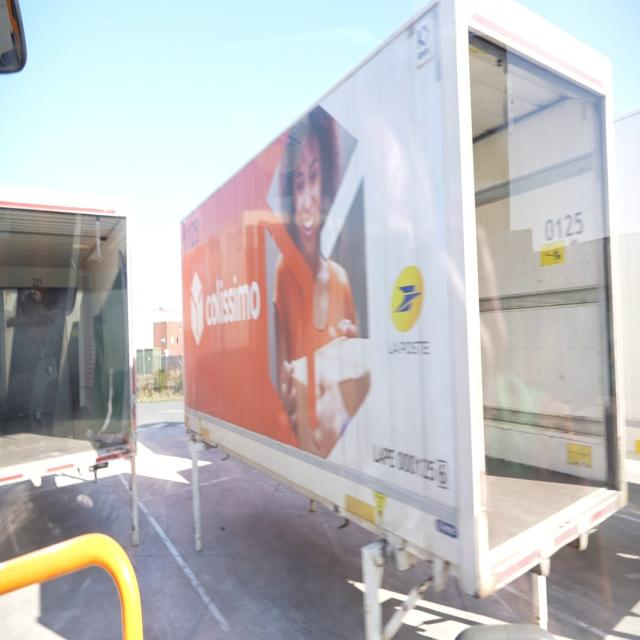Code: (538, 205, 594, 253)
